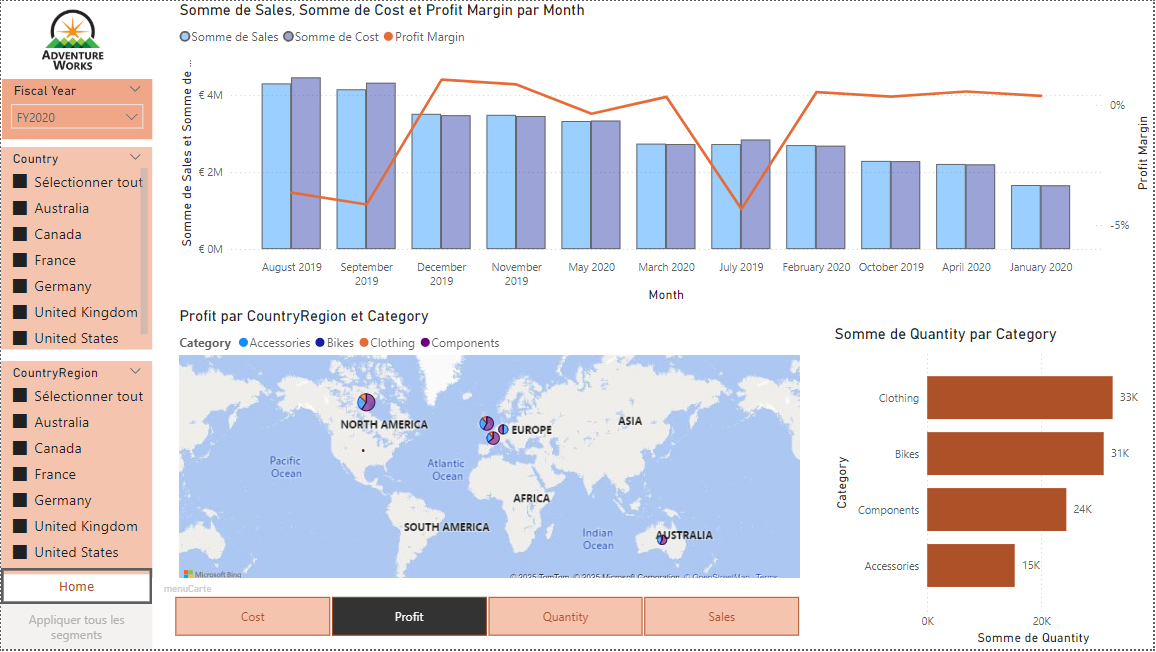

Layout of this report page (visuals, bound fields, positions):
{"tool":"powerbi","page":{"name":"Home","canvas":[1280,720],"ordinal":4},"visuals":[{"type":"slicer","fields":{"Values":["Region.Country"]},"box":[0,162,168,225],"z":1000},{"type":"slicer","fields":{"Values":["Date.Fiscal Year"]},"box":[1.2,86.8,166.5,66.6],"z":2000},{"type":"slicer","fields":{"Values":["Reseller.CountryRegion"]},"box":[0,400,168,237],"z":3000},{"type":"actionButton","box":[0,630,168,40],"z":4000},{"type":"lineClusteredColumnComboChart","fields":{"Category":["Date.Month"],"Y":["Sum(Sales.Sales)","Sum(Sales.Cost)"],"Y2":["Sales.Profit Margin"]},"box":[193,0,1087,340],"z":5000},{"type":"barChart","fields":{"Category":["Product.Category"],"Y":["Sum(Sales.Quantity)"]},"box":[921,360,359,360],"z":6000},{"type":"map","fields":{"Size":["Sales.Profit"],"Category":["Reseller.CountryRegion"],"Series":["Product.Category"]},"box":[193,340,700,317],"z":7000},{"type":"slicer","fields":{"Values":["menuCarte.menuCarte"]},"box":[168,641,743,71],"z":8000},{"type":"actionButton","box":[0,670,168,50],"z":9000},{"type":"image","box":[36.3,0,86.3,86.3],"z":9002}]}

Visuals, with their boxes in screenshot pixels (x1, y1, x2, y2), scaled from the page's 1280x720 canvas onto the 1156x652 screenshot:
slicer - Region.Country: l=0, t=147, r=152, b=350
slicer - Date.Fiscal Year: l=1, t=79, r=151, b=139
slicer - Reseller.CountryRegion: l=0, t=362, r=152, b=577
actionButton: l=0, t=570, r=152, b=607
lineClusteredColumnComboChart - Date.Month x Sum(Sales.Sales): l=174, t=0, r=1155, b=308
barChart - Product.Category x Sum(Sales.Quantity): l=832, t=326, r=1155, b=651
map - Sales.Profit x Reseller.CountryRegion: l=174, t=308, r=806, b=595
slicer - menuCarte.menuCarte: l=152, t=580, r=823, b=645
actionButton: l=0, t=607, r=152, b=651
image: l=33, t=0, r=111, b=78
